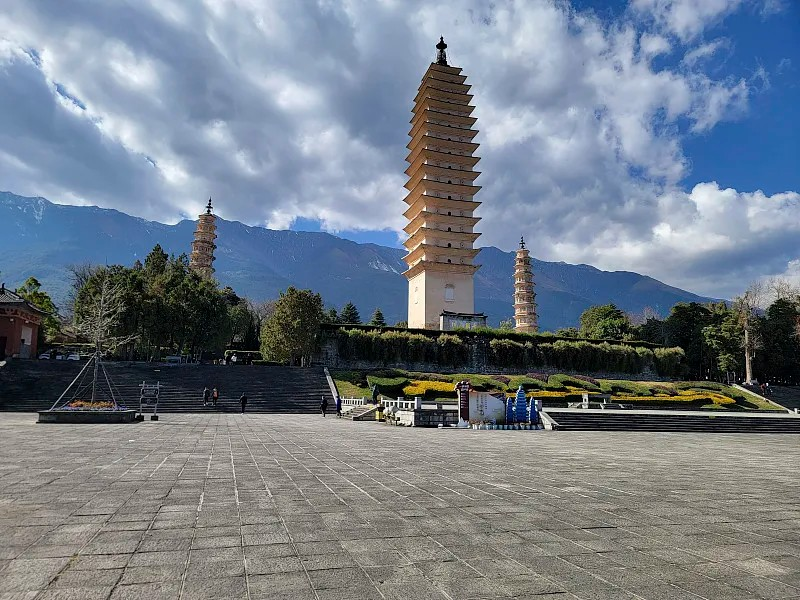ThreePagoda: (401, 34, 482, 329)
